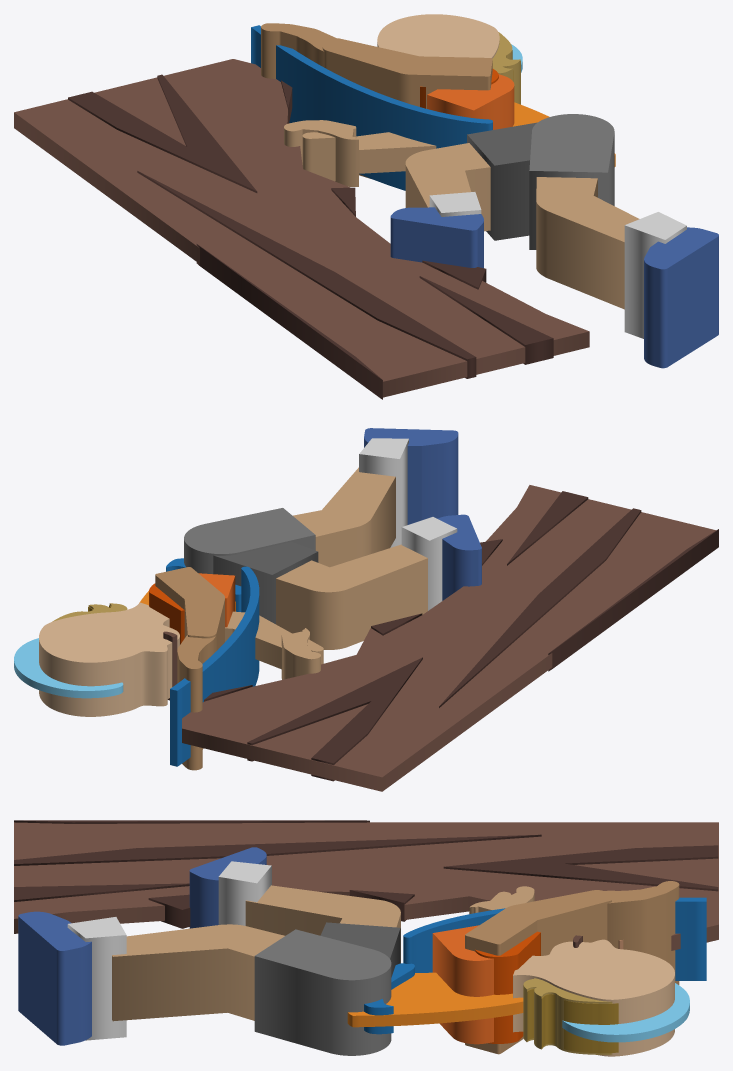
Rendered from emoji_u1f9d7_1f3fc.glb.
3 renders of one model, top to bottom at view 1: azimuth 30°, elevation 25°; view 2: azimuth 150°, elevation 25°; view 3: azimuth 270°, elevation 25°, orthographic. The views are drawn at different scales.
Parts seen in each view (by area): view 1: emoji_u1f9d7_1f3fc; view 2: emoji_u1f9d7_1f3fc; view 3: emoji_u1f9d7_1f3fc.
Part boxes in pixels (x1,y1,x2,y2): emoji_u1f9d7_1f3fc: (14, 14, 718, 399); emoji_u1f9d7_1f3fc: (14, 428, 718, 791); emoji_u1f9d7_1f3fc: (14, 820, 718, 1056).
Size of the model in its own units: 0.0237 by 0.0058 by 0.0338.
